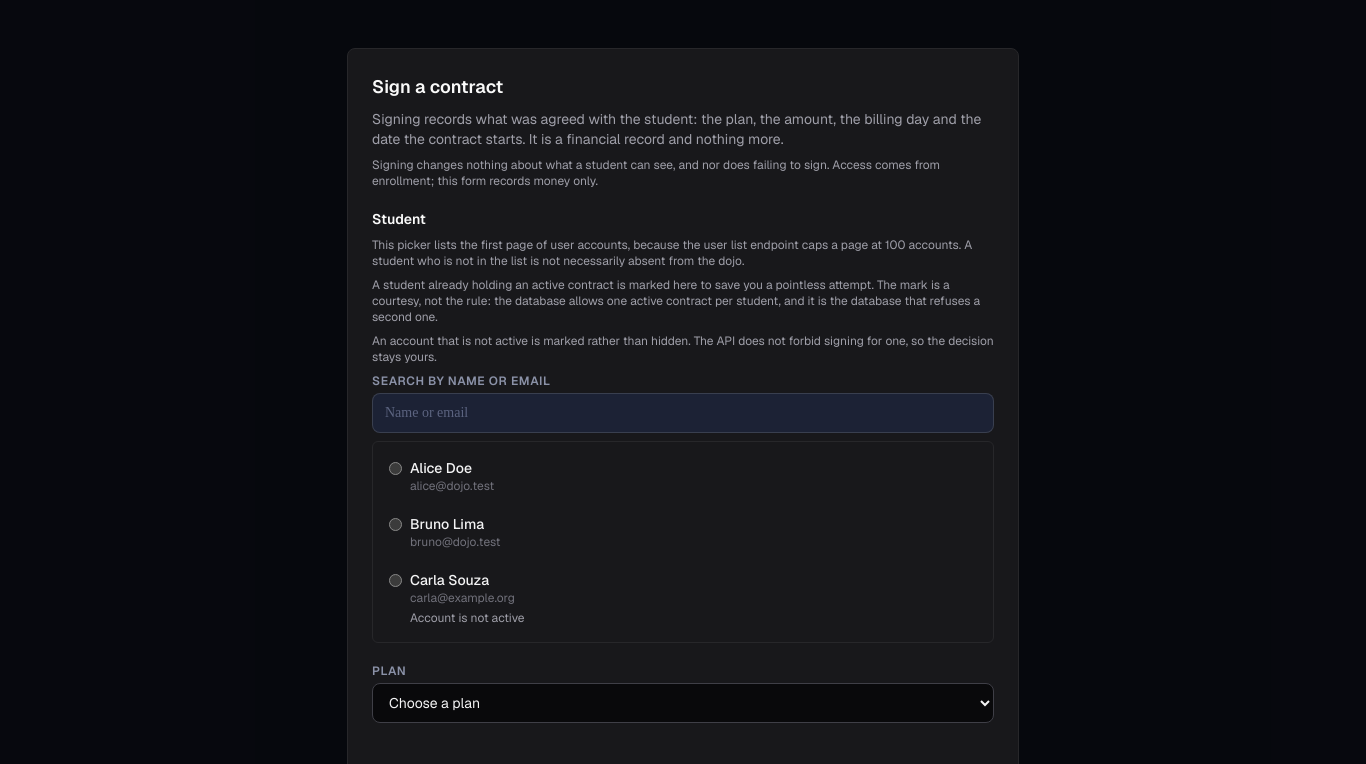
Test: SignContractDialog › refuses a negotiated signature with a blank reason and issues no request
This screenshot has width=1366, height=764.
Click the radio button labelled "Alice Doe alice@dojo.test": {"x": 396, "y": 468} [389, 462, 402, 475]
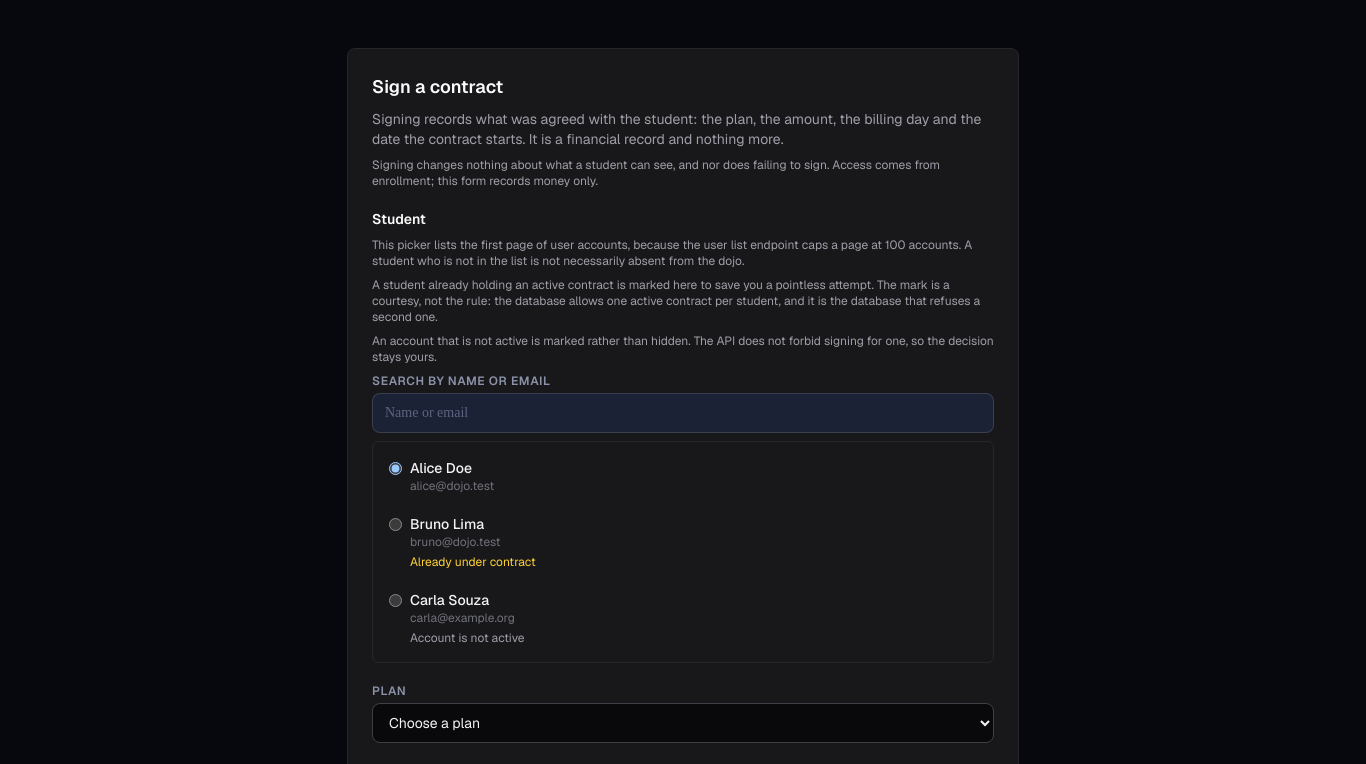
Select "Monthly membership" in the dropdown labelled "Plan": {"x": 683, "y": 723} [372, 703, 994, 743]
(page scrolled)
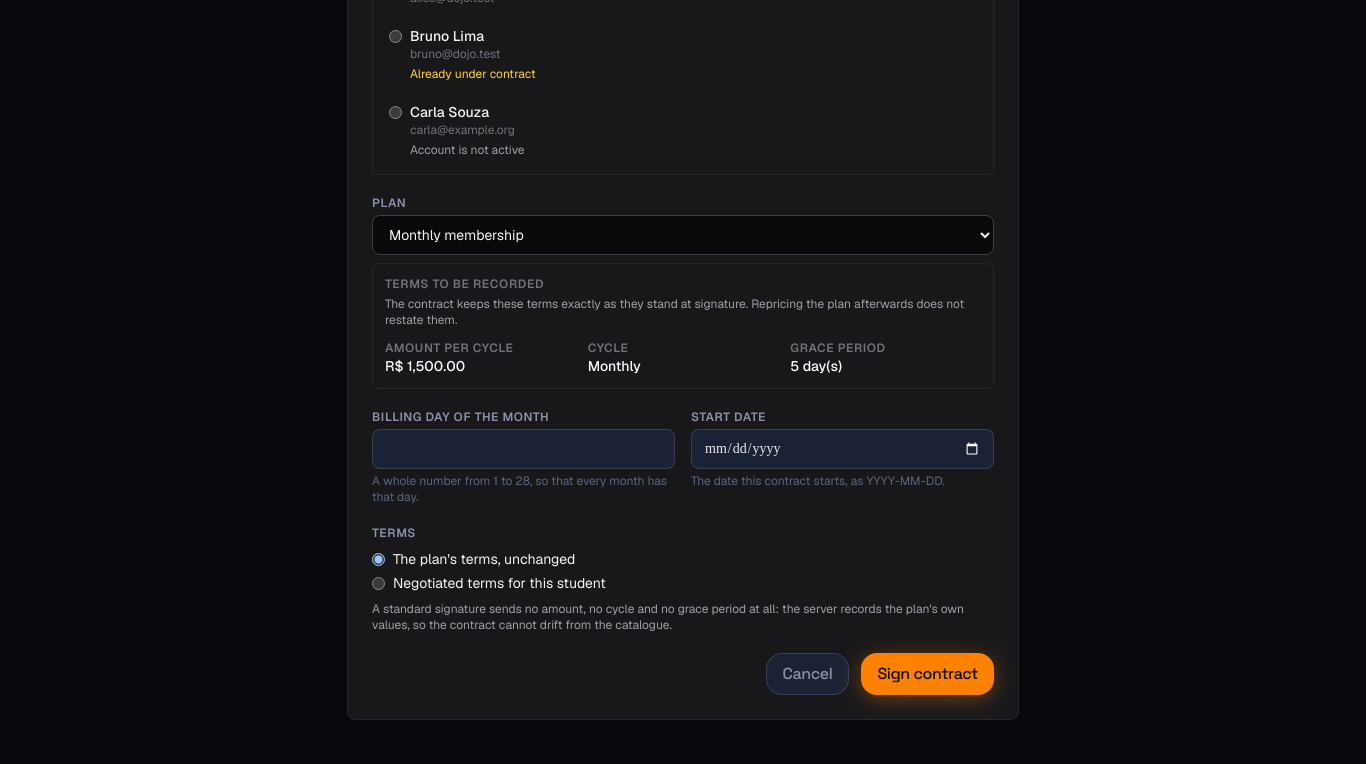
In the field labelled "Billing day of the month": {"x": 524, "y": 449} [372, 429, 675, 469], type "10"
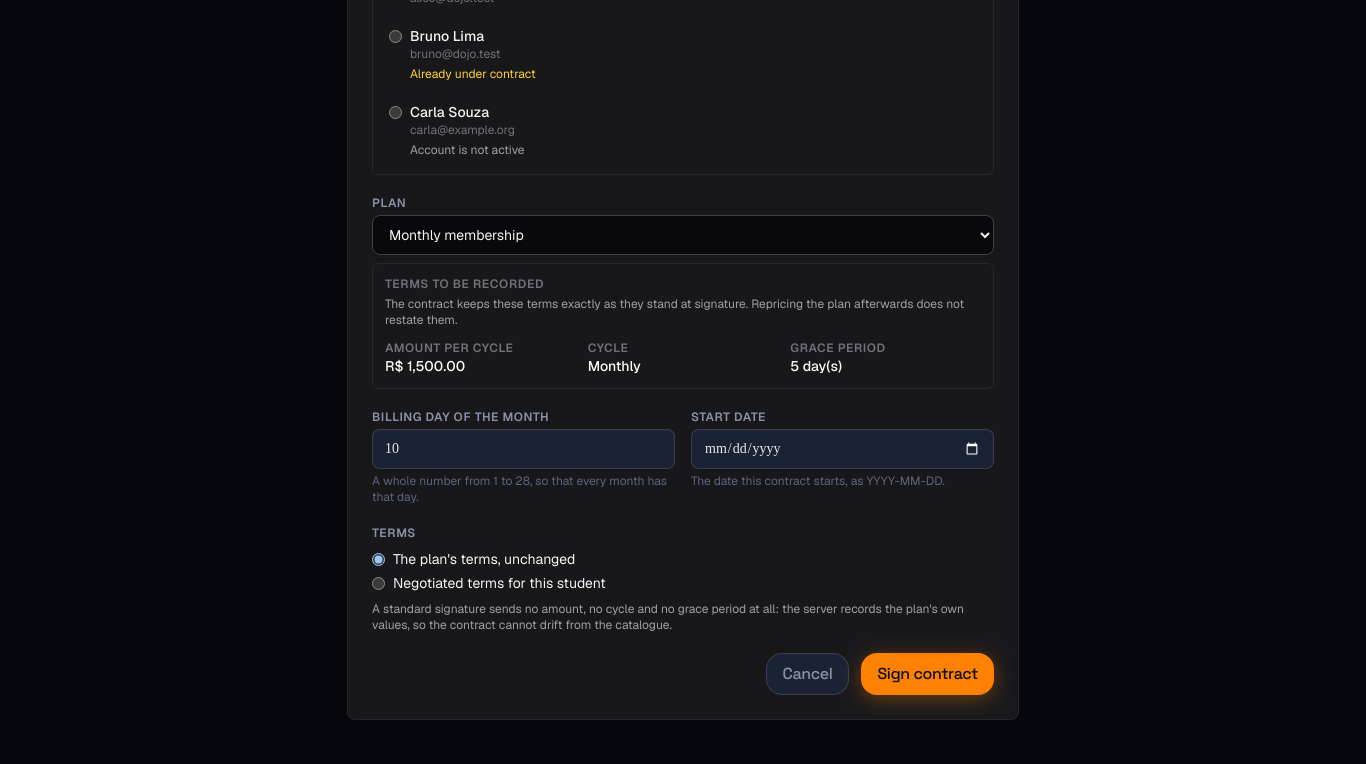
In the date field labelled "Start date": {"x": 842, "y": 449} [691, 429, 994, 469], type "2026-10-01"
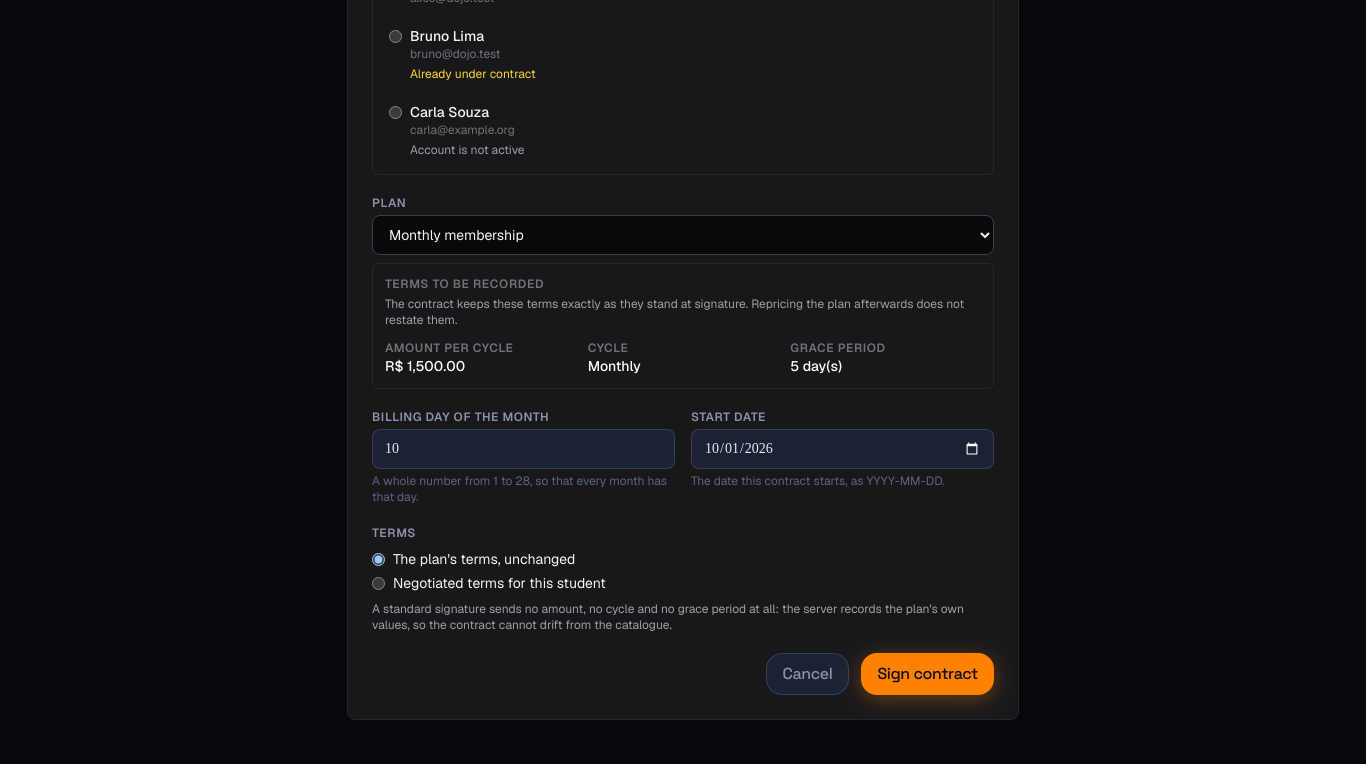
Click the radio button labelled "Negotiated terms for this student": {"x": 378, "y": 583} [372, 576, 385, 590]
(page scrolled)
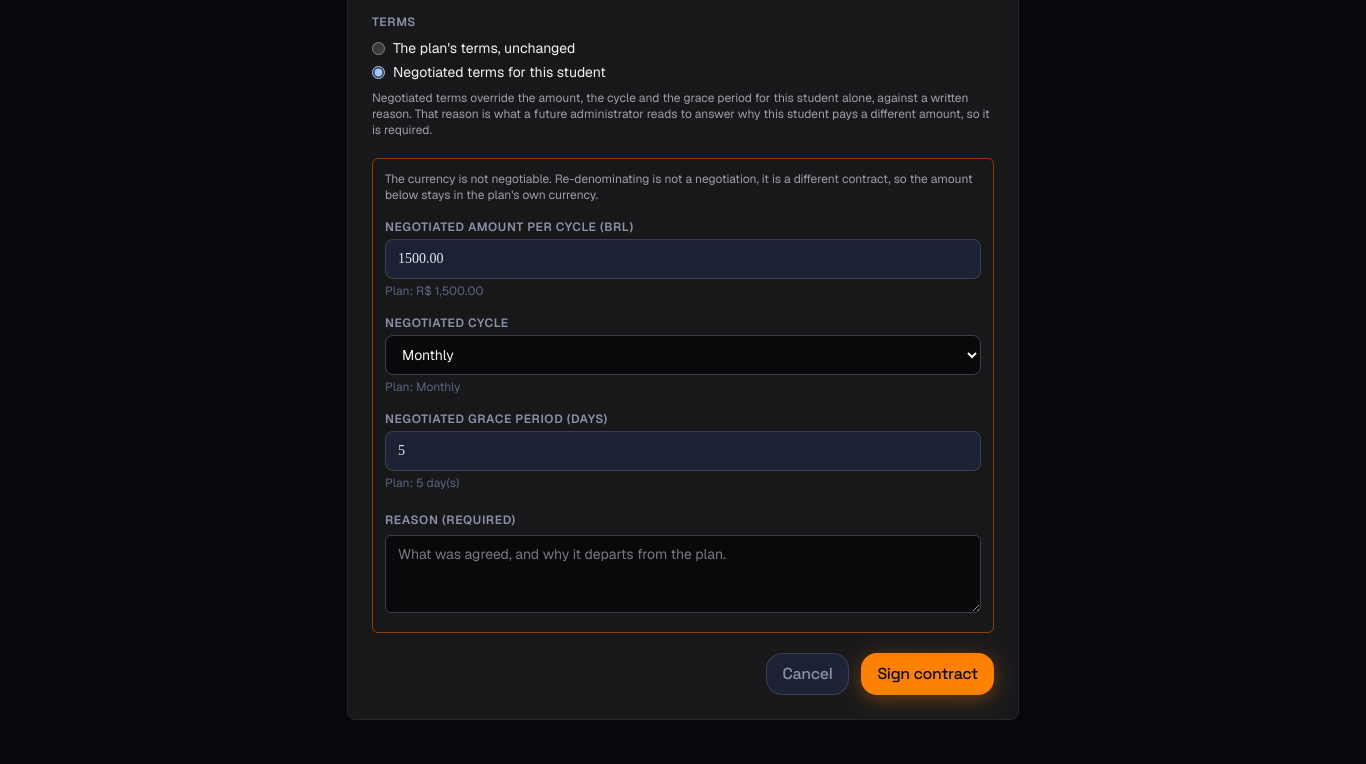
Click the button "Sign contract": {"x": 928, "y": 674} [861, 653, 994, 695]
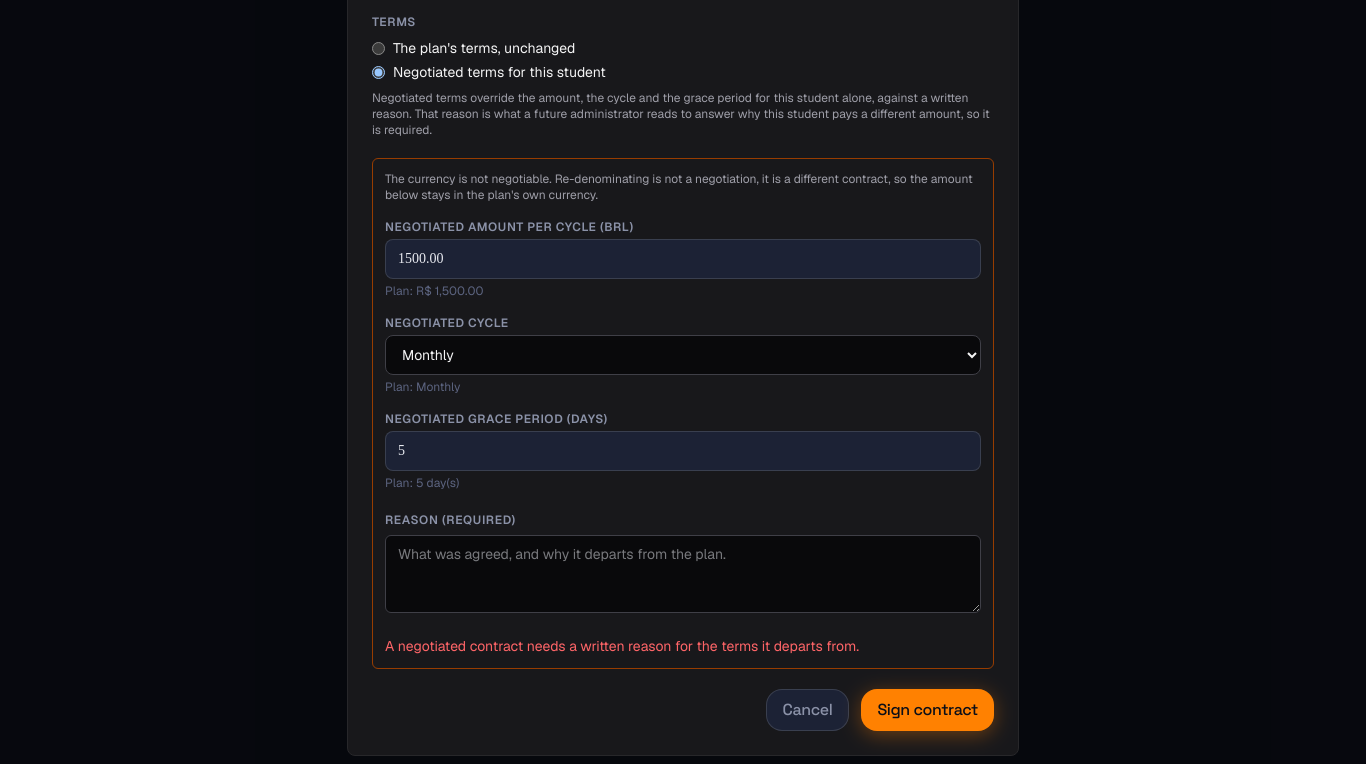
Check: the text "A negotiated contract needs a written reason for the terms it departs from." is shown, box [385, 637, 859, 655]
